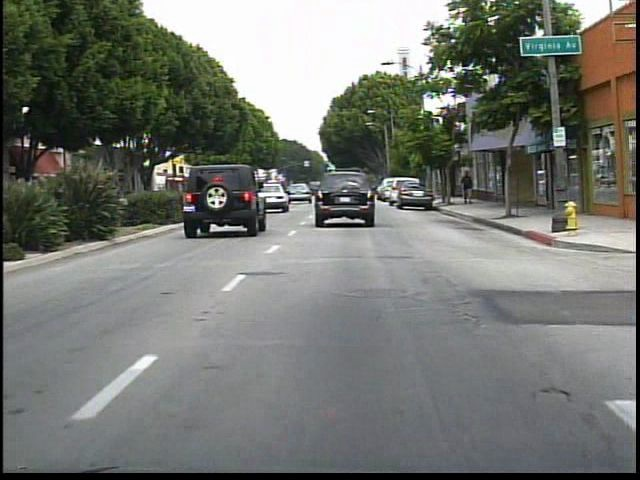person: (457, 168, 478, 208)
